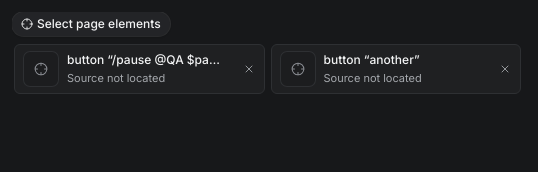
adds multiple local selections without auto-send and removes individual IDs
Owner issue16: compact reference removes via a labelled icon, not a full-width text button.
Step 1. Click the 1st button named "Remove reference" → (248, 69), box [234,45,264,93]
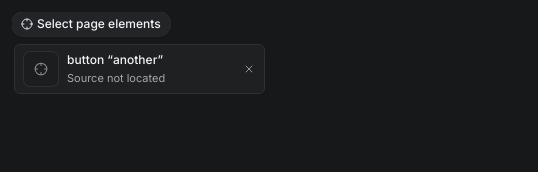
Check: the text "another" is shown, box [67,52,163,67]
Check: the text "/pause @QA $page-context" is gone
